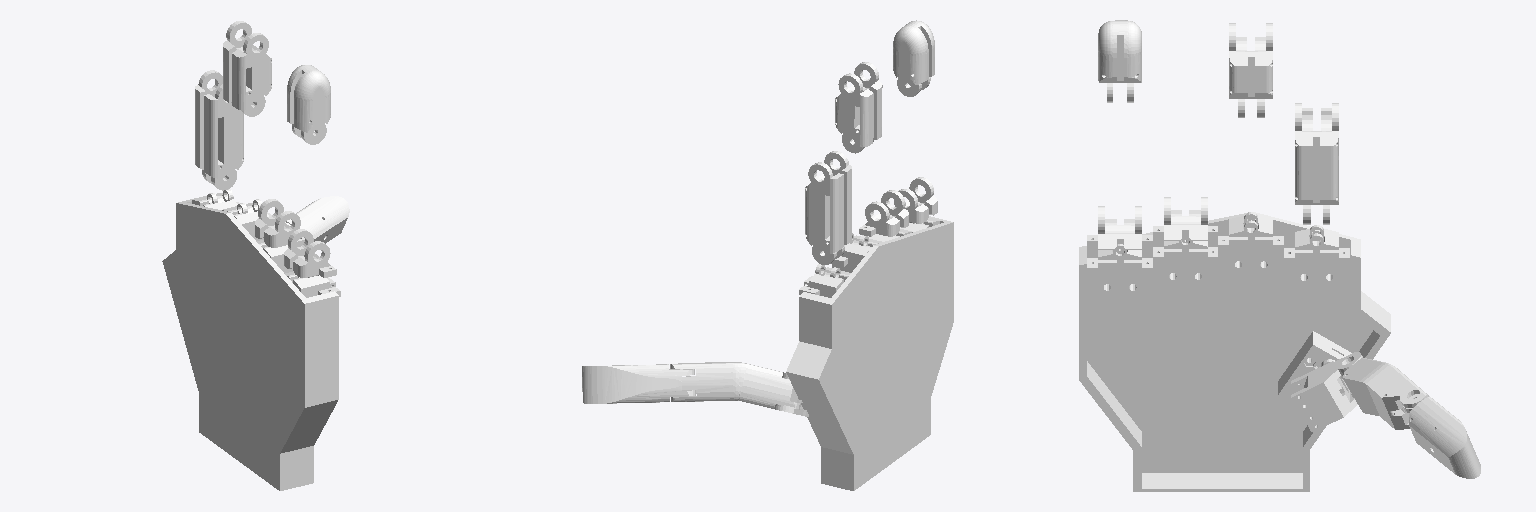
URDF robot description (TUHand2025):
<robot
  name="TUHand2025">
  <link
    name="palm">
    <inertial>
      <origin
        xyz="0.0080864 0.042367 0.076895"
        rpy="0 0 0" />
      <mass
        value="0.11988" />
      <inertia
        ixx="0.00012204"
        ixy="-1.1575E-07"
        ixz="-8.7731E-06"
        iyy="5.6854E-05"
        iyz="1.0672E-05"
        izz="6.8915E-05" />
    </inertial>
    <visual>
      <origin
        xyz="0 0 0"
        rpy="0 0 0" />
      <geometry>
        <mesh
          filename="palm.STL" />
      </geometry>
      <material
        name="">
        <color
          rgba="1 1 1 1" />
      </material>
    </visual>
    <collision>
      <origin
        xyz="0 0 0"
        rpy="0 0 0" />
      <geometry>
        <mesh
          filename="palm.STL" />
      </geometry>
    </collision>
  </link>
  <link
    name="t_top_link">
    <inertial>
      <origin
        xyz="0.0085736 -0.0073366 -2.616E-12"
        rpy="0 0 0" />
      <mass
        value="0.0060855" />
      <inertia
        ixx="5.5650E-07"
        ixy="3.9000E-08"
        ixz="0"
        iyy="3.8562E-07"
        iyz="0"
        izz="4.9595E-07" />
    </inertial>
    <visual>
      <origin
        xyz="0 0 0"
        rpy="0 0 0" />
      <geometry>
        <mesh
          filename="t_top_link.STL" />
      </geometry>
      <material
        name="">
        <color
          rgba="1 1 1 1" />
      </material>
    </visual>
    <collision>
      <origin
        xyz="0 0 0"
        rpy="0 0 0" />
      <geometry>
        <mesh
          filename="t_top_link.STL" />
      </geometry>
    </collision>
  </link>
  <joint
    name="t_top_joint"
    type="revolute">
    <origin
      xyz="0.017288 0.079183 0.046969"
      rpy="-2.6565 5.4287E-17 -1.4972E-17" />
    <parent
      link="palm" />
    <child
      link="t_top_link" />
    <axis
      xyz="1 0 0" />
    <limit
      lower="-0.61"
      upper="0.61"
      effort="4"
      velocity="4" />
  </joint>
  <link
    name="t_fuse_link">
    <inertial>
      <origin
        xyz="0.0013215 0.0015632 0.026497"
        rpy="0 0 0" />
      <mass
        value="0.013726" />
      <inertia
        ixx="2.9313E-06"
        ixy="2.2720E-08"
        ixz="2.7593E-07"
        iyy="3.1174E-06"
        iyz="1.8393E-07"
        izz="8.1416E-07" />
    </inertial>
    <visual>
      <origin
        xyz="0 0 0"
        rpy="0 0 0" />
      <geometry>
        <mesh
          filename="t_fuse_link.STL" />
      </geometry>
      <material
        name="">
        <color
          rgba="1 1 1 1" />
      </material>
    </visual>
    <collision>
      <origin
        xyz="0 0 0"
        rpy="0 0 0" />
      <geometry>
        <mesh
          filename="t_fuse_link.STL" />
      </geometry>
    </collision>
  </link>
  <joint
    name="t_fuse_joint"
    type="revolute">
    <origin
      xyz="0.0071909 -0.021619 0"
      rpy="-1.5708 -1.5708 -2.007" />
    <parent
      link="t_top_link" />
    <child
      link="t_fuse_link" />
    <axis
      xyz="1 0 0" />
    <limit
      lower="0"
      upper="0.8"
      effort="4"
      velocity="4" />
  </joint>
  <link
    name="t_dp_link">
    <inertial>
      <origin
        xyz="-1.6495E-08 -0.0022565 0.025619"
        rpy="0 0 0" />
      <mass
        value="0.012552" />
      <inertia
        ixx="2.5049E-06"
        ixy="0"
        ixz="0"
        iyy="2.6019E-06"
        iyz="-1.6993E-07"
        izz="5.6836E-07" />
    </inertial>
    <visual>
      <origin
        xyz="0 0 0"
        rpy="0 0 0" />
      <geometry>
        <mesh
          filename="t_dp_link.STL" />
      </geometry>
      <material
        name="">
        <color
          rgba="1 1 1 1" />
      </material>
    </visual>
    <collision>
      <origin
        xyz="0 0 0"
        rpy="0 0 0" />
      <geometry>
        <mesh
          filename="t_dp_link.STL" />
      </geometry>
    </collision>
  </link>
  <joint
    name="t_dp_joint"
    type="revolute">
    <origin
      xyz="0.0072839 0.0045297 0.053841"
      rpy="-0.02124 0.258 -0.044959" />
    <parent
      link="t_fuse_link" />
    <child
      link="t_dp_link" />
    <axis
      xyz="-1 0 0" />
    <limit
      lower="-1.57"
      upper="0"
      effort="4"
      velocity="4" />
  </joint>
  <link
    name="i_trans_link">
    <inertial>
      <origin
        xyz="-0.0040005 1.9199E-08 0.0064072"
        rpy="0 0 0" />
      <mass
        value="0.0027274" />
      <inertia
        ixx="1.8051E-07"
        ixy="0"
        ixz="-4.8800E-09"
        iyy="1.0870E-07"
        iyz="0"
        izz="1.8693E-07" />
    </inertial>
    <visual>
      <origin
        xyz="0 0 0"
        rpy="0 0 0" />
      <geometry>
        <mesh
          filename="i_trans_link.STL" />
      </geometry>
      <material
        name="">
        <color
          rgba="1 1 1 1" />
      </material>
    </visual>
    <collision>
      <origin
        xyz="0 0 0"
        rpy="0 0 0" />
      <geometry>
        <mesh
          filename="i_trans_link.STL" />
      </geometry>
    </collision>
  </link>
  <joint
    name="i_trans_joint"
    type="revolute">
    <origin
      xyz="0.016494 0.080177 0.11991"
      rpy="4.0074E-10 -3.9141E-16 2.3427E-16" />
    <parent
      link="palm" />
    <child
      link="i_trans_link" />
    <axis
      xyz="-1 0 0" />
    <limit
      lower="-0.26"
      upper="0.26"
      effort="4"
      velocity="4" />
  </joint>
  <link
    name="i_proximal_link">
    <inertial>
      <origin
        xyz="-6.9569E-08 -0.00018345 0.022146"
        rpy="0 0 0" />
      <mass
        value="0.011601" />
      <inertia
        ixx="2.1443E-06"
        ixy="0"
        ixz="0"
        iyy="2.2182E-06"
        iyz="3.0910E-08"
        izz="6.9839E-07" />
    </inertial>
    <visual>
      <origin
        xyz="0 0 0"
        rpy="0 0 0" />
      <geometry>
        <mesh
          filename="i_proximal_link.STL" />
      </geometry>
      <material
        name="">
        <color
          rgba="1 1 1 1" />
      </material>
    </visual>
    <collision>
      <origin
        xyz="0 0 0"
        rpy="0 0 0" />
      <geometry>
        <mesh
          filename="i_proximal_link.STL" />
      </geometry>
    </collision>
  </link>
  <joint
    name="i_proximal_joint"
    type="revolute">
    <origin
      xyz="-0.003556 0 0.0127"
      rpy="-1.4086E-12 -1.1737E-16 1.5708" />
    <parent
      link="i_trans_link" />
    <child
      link="i_proximal_link" />
    <axis
      xyz="-1 0 0" />
    <limit
      lower="-1.57"
      upper="0"
      effort="4"
      velocity="4" />
  </joint>
  <link
    name="i_middle_link">
    <inertial>
      <origin
        xyz="9.9295E-09 0.00023385 0.015157"
        rpy="0 0 0" />
      <mass
        value="0.007975" />
      <inertia
        ixx="8.9117E-07"
        ixy="0"
        ixz="0"
        iyy="9.5251E-07"
        iyz="-1.6730E-08"
        izz="4.7759E-07" />
    </inertial>
    <visual>
      <origin
        xyz="0 0 0"
        rpy="0 0 0" />
      <geometry>
        <mesh
          filename="i_middle_link.STL" />
      </geometry>
      <material
        name="">
        <color
          rgba="1 1 1 1" />
      </material>
    </visual>
    <collision>
      <origin
        xyz="0 0 0"
        rpy="0 0 0" />
      <geometry>
        <mesh
          filename="i_middle_link.STL" />
      </geometry>
    </collision>
  </link>
  <joint
    name="i_middle_joint"
    type="revolute">
    <origin
      xyz="0 0 0.04445"
      rpy="-1.5409E-14 0 -2.7318E-16" />
    <parent
      link="i_proximal_link" />
    <child
      link="i_middle_link" />
    <axis
      xyz="-1 0 0" />
    <limit
      lower="-1.57"
      upper="0"
      effort="4"
      velocity="4" />
  </joint>
  <link
    name="i_dp_link">
    <inertial>
      <origin
        xyz="4.805E-08 5.2937E-05 0.015772"
        rpy="0 0 0" />
      <mass
        value="0.0082292" />
      <inertia
        ixx="7.4000E-07"
        ixy="0"
        ixz="0"
        iyy="7.9356E-07"
        iyz="-1.9940E-08"
        izz="3.9386E-07" />
    </inertial>
    <visual>
      <origin
        xyz="0 0 0"
        rpy="0 0 0" />
      <geometry>
        <mesh
          filename="i_dp_link.STL" />
      </geometry>
      <material
        name="">
        <color
          rgba="1 1 1 1" />
      </material>
    </visual>
    <collision>
      <origin
        xyz="0 0 0"
        rpy="0 0 0" />
      <geometry>
        <mesh
          filename="i_dp_link.STL" />
      </geometry>
    </collision>
  </link>
  <joint
    name="i_dp_joint"
    type="revolute">
    <origin
      xyz="0 0 0.03175"
      rpy="1.4433E-15 0 -3.2535E-30" />
    <parent
      link="i_middle_link" />
    <child
      link="i_dp_link" />
    <axis
      xyz="-1 0 0" />
    <limit
     lower="-1.57"
      upper="0"
      effort="4"
      velocity="4" />
  </joint>
  <link
    name="m_trans_link">
    <inertial>
      <origin
        xyz="-0.0040005 1.9226E-08 0.0064072"
        rpy="0 0 0" />
      <mass
        value="0.0027274" />
      <inertia
        ixx="1.8051E-07"
        ixy="0"
        ixz="-4.8800E-09"
        iyy="1.0870E-07"
        iyz="0"
        izz="1.8693E-07" />
    </inertial>
    <visual>
      <origin
        xyz="0 0 0"
        rpy="0 0 0" />
      <geometry>
        <mesh
          filename="m_trans_link.STL" />
      </geometry>
      <material
        name="">
        <color
          rgba="1 1 1 1" />
      </material>
    </visual>
    <collision>
      <origin
        xyz="0 0 0"
        rpy="0 0 0" />
      <geometry>
        <mesh
          filename="m_trans_link.STL" />
      </geometry>
    </collision>
  </link>
  <joint
    name="m_trans_joint"
    type="revolute">
    <origin
      xyz="0.015924 0.051602 0.12618"
      rpy="4.0177E-10 -0.004749 -1.9084E-12" />
    <parent
      link="palm" />
    <child
      link="m_trans_link" />
    <axis
      xyz="-1 0 0" />
    <limit
      lower="-0.26"
      upper="0.26"
      effort="4"
      velocity="4" />
  </joint>
  <link
    name="m_proximal_link">
    <inertial>
      <origin
        xyz="-6.9532E-08 -0.00018345 0.022146"
        rpy="0 0 0" />
      <mass
        value="0.011601" />
      <inertia
        ixx="2.1443E-06"
        ixy="0"
        ixz="0"
        iyy="2.2182E-06"
        iyz="3.0910E-08"
        izz="6.9839E-07" />
    </inertial>
    <visual>
      <origin
        xyz="0 0 0"
        rpy="0 0 0" />
      <geometry>
        <mesh
          filename="m_proximal_link.STL" />
      </geometry>
      <material
        name="">
        <color
          rgba="1 1 1 1" />
      </material>
    </visual>
    <collision>
      <origin
        xyz="0 0 0"
        rpy="0 0 0" />
      <geometry>
        <mesh
          filename="m_proximal_link.STL" />
      </geometry>
    </collision>
  </link>
  <joint
    name="m_proximal_joint"
    type="revolute">
    <origin
      xyz="-0.003556 0 0.0127"
      rpy="-1.2213E-12 3.3448E-28 1.5708" />
    <parent
      link="m_trans_link" />
    <child
      link="m_proximal_link" />
    <axis
      xyz="-1 0 0" />
    <limit
      lower="-1.57"
      upper="0"
      effort="4"
      velocity="4" />
  </joint>
  <link
    name="m_middle_link">
    <inertial>
      <origin
        xyz="9.8546E-09 0.00023385 0.015157"
        rpy="0 0 0" />
      <mass
        value="0.007975" />
      <inertia
        ixx="8.9117E-07"
        ixy="0"
        ixz="0"
        iyy="9.5251E-07"
        iyz="-1.6730E-08"
        izz="4.7759E-07" />
    </inertial>
    <visual>
      <origin
        xyz="0 0 0"
        rpy="0 0 0" />
      <geometry>
        <mesh
          filename="m_middle_link.STL" />
      </geometry>
      <material
        name="">
        <color
          rgba="1 1 1 1" />
      </material>
    </visual>
    <collision>
      <origin
        xyz="0 0 0"
        rpy="0 0 0" />
      <geometry>
        <mesh
          filename="m_middle_link.STL" />
      </geometry>
    </collision>
  </link>
  <joint
    name="m_middle_joint"
    type="revolute">
    <origin
      xyz="0 0 0.04445"
      rpy="-1.5395E-14 0 -2.7318E-16" />
    <parent
      link="m_proximal_link" />
    <child
      link="m_middle_link" />
    <axis
      xyz="-1 0 0" />
    <limit
     lower="-1.57"
      upper="0"
      effort="4"
      velocity="4" />
  </joint>
  <link
    name="m_dp_link">
    <inertial>
      <origin
        xyz="4.805E-08 5.2937E-05 0.015772"
        rpy="0 0 0" />
      <mass
        value="0.0082292" />
      <inertia
        ixx="7.4000E-07"
        ixy="0"
        ixz="0"
        iyy="7.9356E-07"
        iyz="-1.9940E-08"
        izz="3.9386E-07" />
    </inertial>
    <visual>
      <origin
        xyz="0 0 0"
        rpy="0 0 0" />
      <geometry>
        <mesh
          filename="m_dp_link.STL" />
      </geometry>
      <material
        name="">
        <color
          rgba="1 1 1 1" />
      </material>
    </visual>
    <collision>
      <origin
        xyz="0 0 0"
        rpy="0 0 0" />
      <geometry>
        <mesh
          filename="m_dp_link.STL" />
      </geometry>
    </collision>
  </link>
  <joint
    name="m_dp_joint"
    type="revolute">
    <origin
      xyz="0 0 0.03175"
      rpy="1.4225E-15 2.3666E-30 -3.4513E-31" />
    <parent
      link="m_middle_link" />
    <child
      link="m_dp_link" />
    <axis
      xyz="-1 0 0" />
    <limit
      lower="-1.57"
      upper="0"
      effort="4"
      velocity="4" />
  </joint>
  <link
    name="r_trans_link">
    <inertial>
      <origin
        xyz="-0.0040005 1.9191E-08 0.0064072"
        rpy="0 0 0" />
      <mass
        value="0.0027274" />
      <inertia
        ixx="1.8051E-07"
        ixy="0"
        ixz="-4.8800E-09"
        iyy="1.0870E-07"
        iyz="0"
        izz="1.8693E-07" />
    </inertial>
    <visual>
      <origin
        xyz="0 0 0"
        rpy="0 0 0" />
      <geometry>
        <mesh
          filename="r_trans_link.STL" />
      </geometry>
      <material
        name="">
        <color
          rgba="1 1 1 1" />
      </material>
    </visual>
    <collision>
      <origin
        xyz="0 0 0"
        rpy="0 0 0" />
      <geometry>
        <mesh
          filename="r_trans_link.STL" />
      </geometry>
    </collision>
  </link>
  <joint
    name="r_trans_joint"
    type="revolute">
    <origin
      xyz="0.016573 0.023027 0.11945"
      rpy="4.0176E-10 0.00066029 6.9104E-13" />
    <parent
      link="palm" />
    <child
      link="r_trans_link" />
    <axis
      xyz="-1 0 0" />
    <limit
      lower="-0.26"
      upper="0.26"
      effort="4"
      velocity="4" />
  </joint>
  <link
    name="r_proximal_link">
    <inertial>
      <origin
        xyz="-6.9566E-08 -0.00018345 0.022146"
        rpy="0 0 0" />
      <mass
        value="0.011601" />
      <inertia
        ixx="2.1443E-06"
        ixy="0"
        ixz="0"
        iyy="2.2182E-06"
        iyz="3.0910E-08"
        izz="6.9839E-07" />
    </inertial>
    <visual>
      <origin
        xyz="0 0 0"
        rpy="0 0 0" />
      <geometry>
        <mesh
          filename="r_proximal_link.STL" />
      </geometry>
      <material
        name="">
        <color
          rgba="1 1 1 1" />
      </material>
    </visual>
    <collision>
      <origin
        xyz="0 0 0"
        rpy="0 0 0" />
      <geometry>
        <mesh
          filename="r_proximal_link.STL" />
      </geometry>
    </collision>
  </link>
  <joint
    name="r_proximal_joint"
    type="revolute">
    <origin
      xyz="-0.003556 0 0.0127"
      rpy="-1.0227E-12 -1.1735E-16 1.5708" />
    <parent
      link="r_trans_link" />
    <child
      link="r_proximal_link" />
    <axis
      xyz="-1 0 0" />
    <limit
      lower="-1.57"
      upper="0"
      effort="4"
      velocity="4" />
  </joint>
  <link
    name="r_middle_link">
    <inertial>
      <origin
        xyz="9.9112E-09 0.00023385 0.015157"
        rpy="0 0 0" />
      <mass
        value="0.007975" />
      <inertia
        ixx="8.9117E-07"
        ixy="0"
        ixz="0"
        iyy="9.5251E-07"
        iyz="-1.6730E-08"
        izz="4.7759E-07" />
    </inertial>
    <visual>
      <origin
        xyz="0 0 0"
        rpy="0 0 0" />
      <geometry>
        <mesh
          filename="r_middle_link.STL" />
      </geometry>
      <material
        name="">
        <color
          rgba="1 1 1 1" />
      </material>
    </visual>
    <collision>
      <origin
        xyz="0 0 0"
        rpy="0 0 0" />
      <geometry>
        <mesh
          filename="r_middle_link.STL" />
      </geometry>
    </collision>
  </link>
  <joint
    name="r_middle_joint"
    type="revolute">
    <origin
      xyz="0 0 0.04445"
      rpy="-5.6948E-15 0 -2.7318E-16" />
    <parent
      link="r_proximal_link" />
    <child
      link="r_middle_link" />
    <axis
      xyz="-1 0 0" />
    <limit
      lower="-1.57"
      upper="0"
      effort="4"
      velocity="4" />
  </joint>
  <link
    name="r_dp_link">
    <inertial>
      <origin
        xyz="5.3058E-08 5.2932E-05 0.015772"
        rpy="0 0 0" />
      <mass
        value="0.0082292" />
      <inertia
        ixx="7.4000E-07"
        ixy="0"
        ixz="0"
        iyy="7.9356E-07"
        iyz="-1.9940E-08"
        izz="3.9386E-07" />
    </inertial>
    <visual>
      <origin
        xyz="0 0 0"
        rpy="0 0 0" />
      <geometry>
        <mesh
          filename="r_dp_link.STL" />
      </geometry>
      <material
        name="">
        <color
          rgba="1 1 1 1" />
      </material>
    </visual>
    <collision>
      <origin
        xyz="0 0 0"
        rpy="0 0 0" />
      <geometry>
        <mesh
          filename="r_dp_link.STL" />
      </geometry>
    </collision>
  </link>
  <joint
    name="r_dp_joint"
    type="revolute">
    <origin
      xyz="0 0 0.03175"
      rpy="-7.3205E-15 1.5777E-30 4.6732E-29" />
    <parent
      link="r_middle_link" />
    <child
      link="r_dp_link" />
    <axis
      xyz="-1 0 0" />
    <limit
      lower="-1.57"
      upper="0"
      effort="4"
      velocity="4" />
  </joint>
  <link
    name="p_trans_link">
    <inertial>
      <origin
        xyz="-0.0040005 1.9191E-08 0.0064072"
        rpy="0 0 0" />
      <mass
        value="0.0027274" />
      <inertia
        ixx="1.8051E-07"
        ixy="0"
        ixz="-4.8800E-09"
        iyy="1.0870E-07"
        iyz="0"
        izz="1.8693E-07" />
    </inertial>
    <visual>
      <origin
        xyz="0 0 0"
        rpy="0 0 0" />
      <geometry>
        <mesh
          filename="r_trans_link.STL" />
      </geometry>
      <material
        name="">
        <color
          rgba="1 1 1 1" />
      </material>
    </visual>
    <collision>
      <origin
        xyz="0 0 0"
        rpy="0 0 0" />
      <geometry>
        <mesh
          filename="r_trans_link.STL" />
      </geometry>
    </collision>
  </link>
  <joint
    name="p_trans_joint"
    type="revolute">
    <origin
      xyz="0.016494 -0.0055477 0.11509"
      rpy="4.0176E-10 -5.2758E-16 -3.3357E-16" />
    <parent
      link="palm" />
    <child
      link="p_trans_link" />
    <axis
      xyz="-1 0 0" />
    <limit
      lower="-0.26"
      upper="0.26"
      effort="4"
      velocity="4" />
  </joint>
  <link
    name="p_proximal_link">
    <inertial>
      <origin
        xyz="9.9295E-09 0.00023385 0.015157"
        rpy="0 0 0" />
      <mass
        value="0.007975" />
      <inertia
        ixx="8.9117E-07"
        ixy="0"
        ixz="0"
        iyy="9.5251E-07"
        iyz="-1.6730E-08"
        izz="4.7759E-07" />
    </inertial>
    <visual>
      <origin
        xyz="0 0 0"
        rpy="0 0 0" />
      <geometry>
        <mesh
          filename="p_middle_link.STL" />
      </geometry>
      <material
        name="">
        <color
          rgba="1 1 1 1" />
      </material>
    </visual>
    <collision>
      <origin
        xyz="0 0 0"
        rpy="0 0 0" />
      <geometry>
        <mesh
          filename="p_middle_link.STL" />
      </geometry>
    </collision>
  </link>
  <joint
    name="p_proximal_joint"
    type="revolute">
    <origin
      xyz="-0.003556 0 0.0127"
      rpy="-1.2438E-12 1.7202E-26 1.5708" />
    <parent
      link="p_trans_link" />
    <child
      link="p_proximal_link" />
    <axis
      xyz="-1 0 0" />
    <limit
     lower="-1.57"
      upper="0"
      effort="4"
      velocity="4" />
  </joint>
  <link
    name="p_middle_link">
    <inertial>
      <origin
        xyz="9.9295E-09 0.00023385 0.015157"
        rpy="0 0 0" />
      <mass
        value="0.007975" />
      <inertia
        ixx="8.9117E-07"
        ixy="0"
        ixz="0"
        iyy="9.5251E-07"
        iyz="-1.6730E-08"
        izz="4.7759E-07" />
    </inertial>
    <visual>
      <origin
        xyz="0 0 0"
        rpy="0 0 0" />
      <geometry>
        <mesh
          filename="p_middle_link.STL" />
      </geometry>
      <material
        name="">
        <color
          rgba="1 1 1 1" />
      </material>
    </visual>
    <collision>
      <origin
        xyz="0 0 0"
        rpy="0 0 0" />
      <geometry>
        <mesh
          filename="p_middle_link.STL" />
      </geometry>
    </collision>
  </link>
  <joint
    name="p_middle_joint"
    type="revolute">
    <origin
      xyz="0 0 0.03175"
      rpy="6.983E-15 -6.983E-15 -1.3966E-14" />
    <parent
      link="p_proximal_link" />
    <child
      link="p_middle_link" />
    <axis
      xyz="-1 0 0" />
    <limit
      lower="-1.57"
      upper="0"
      effort="4"
      velocity="4" />
  </joint>
  <link
    name="p_dp_link">
    <inertial>
      <origin
        xyz="4.805E-08 5.2937E-05 0.015772"
        rpy="0 0 0" />
      <mass
        value="0.0082292" />
      <inertia
        ixx="7.4000E-07"
        ixy="0"
        ixz="0"
        iyy="7.9356E-07"
        iyz="-1.9940E-08"
        izz="3.9386E-07" />
    </inertial>
    <visual>
      <origin
        xyz="0 0 0"
        rpy="0 0 0" />
      <geometry>
        <mesh
          filename="p_dp_link.STL" />
      </geometry>
      <material
        name="">
        <color
          rgba="1 1 1 1" />
      </material>
    </visual>
    <collision>
      <origin
        xyz="0 0 0"
        rpy="0 0 0" />
      <geometry>
        <mesh
          filename="p_dp_link.STL" />
      </geometry>
    </collision>
  </link>
  <joint
    name="p_dp_joint"
    type="revolute">
    <origin
      xyz="0 0 0.03175"
      rpy="0 0 1.7025E-43" />
    <parent
      link="p_middle_link" />
    <child
      link="p_dp_link" />
    <axis
      xyz="-1 0 0" />
    <limit
     lower="-1.57"
      upper="0"
      effort="4"
      velocity="4" />
  </joint>
</robot>

--- Facts derived from the render (not from the file) ---
Views: 3 orthographic renders of the robot side by side, from view 1: azimuth 30°, elevation 25°; view 2: azimuth 150°, elevation 25°; view 3: azimuth 270°, elevation 25°.
Robot: TUHand2025 — 20 links, 19 joints (19 revolute); root link palm; default pose: every joint at zero.
Visible links, largest first — view 1: palm, i_proximal_link, m_middle_link, p_dp_link, t_dp_link, p_trans_link, r_trans_link; view 2: palm, i_proximal_link, t_fuse_link, t_dp_link, m_middle_link, p_dp_link, r_trans_link, p_trans_link; view 3: palm, i_proximal_link, t_fuse_link, t_dp_link, t_top_link, m_middle_link, p_dp_link, p_trans_link, r_trans_link.
Link boxes in pixels (left/top/right/bottom): palm: left=162, top=189, right=340, bottom=490; i_proximal_link: left=195, top=70, right=243, bottom=190; m_middle_link: left=223, top=21, right=271, bottom=116; p_dp_link: left=287, top=65, right=330, bottom=144; t_dp_link: left=286, top=196, right=349, bottom=243; p_trans_link: left=284, top=229, right=336, bottom=277; r_trans_link: left=255, top=199, right=304, bottom=247; palm: left=786, top=216, right=953, bottom=490; i_proximal_link: left=805, top=151, right=851, bottom=264; t_fuse_link: left=670, top=362, right=800, bottom=409; t_dp_link: left=582, top=364, right=695, bottom=403; m_middle_link: left=835, top=62, right=882, bottom=153; p_dp_link: left=893, top=20, right=934, bottom=96; r_trans_link: left=859, top=190, right=908, bottom=236; p_trans_link: left=894, top=177, right=937, bottom=223; palm: left=1079, top=212, right=1390, bottom=491; i_proximal_link: left=1295, top=103, right=1338, bottom=224; t_fuse_link: left=1341, top=358, right=1428, bottom=429; t_dp_link: left=1403, top=394, right=1480, bottom=478; t_top_link: left=1291, top=352, right=1362, bottom=431; m_middle_link: left=1229, top=23, right=1272, bottom=117; p_dp_link: left=1098, top=20, right=1141, bottom=102; p_trans_link: left=1087, top=206, right=1152, bottom=253; r_trans_link: left=1153, top=197, right=1217, bottom=242.
Size in the robot's own frame: 0.1199 by 0.1755 by 0.223 metres.
Meshes: 18 distinct files referenced, 9 mesh visuals loaded (8 binary STL); not drawn: 11 (reference not matched to a file when rendering).